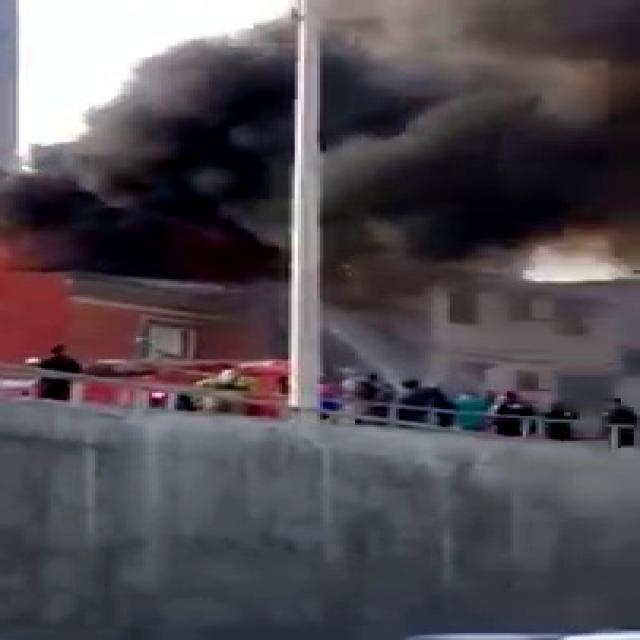Smoke: (6, 0, 640, 260)
